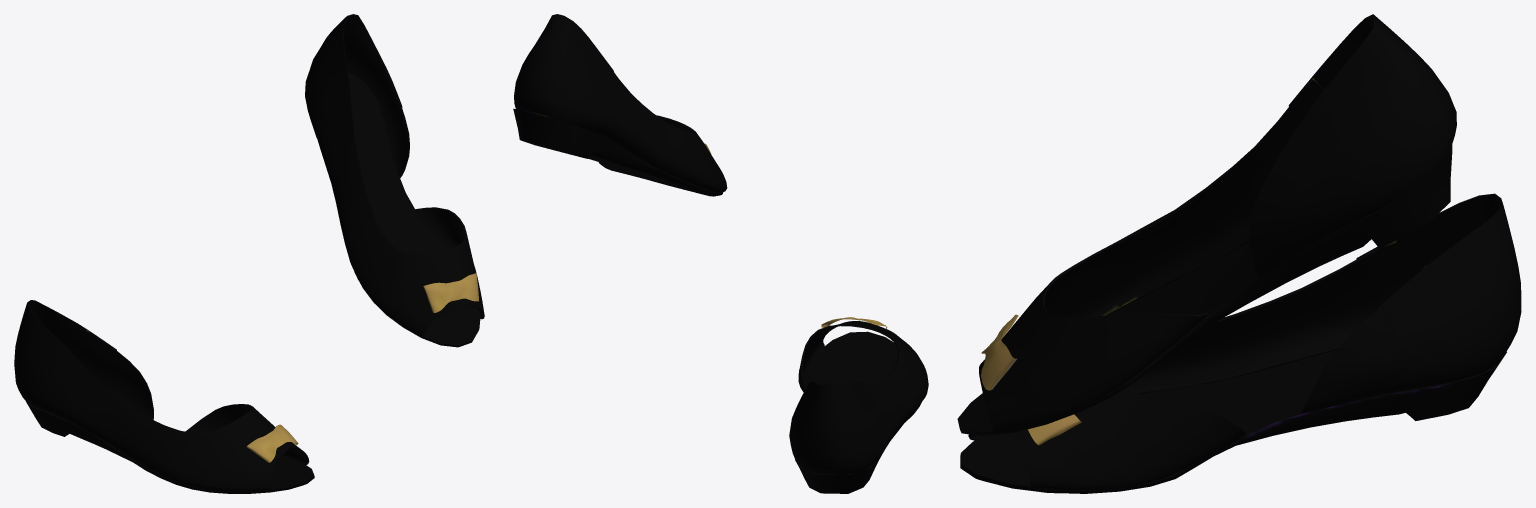
The model's file is BellyG.fbx.
3 views of the same model, side by side, from view 1: azimuth 30°, elevation 25°; view 2: azimuth 150°, elevation 25°; view 3: azimuth 270°, elevation 25° (orthographic). The views are drawn at different scales.
Visible parts, largest first — view 1: BellyG; view 2: BellyG; view 3: BellyG.
Boxes of the visible parts, box(x1,y1,x2,y2) form: BellyG: box(14, 14, 484, 493); BellyG: box(513, 14, 928, 493); BellyG: box(957, 14, 1521, 493).
Bounding box in the file's own units: 30.66 × 29.88 × 25.14.
